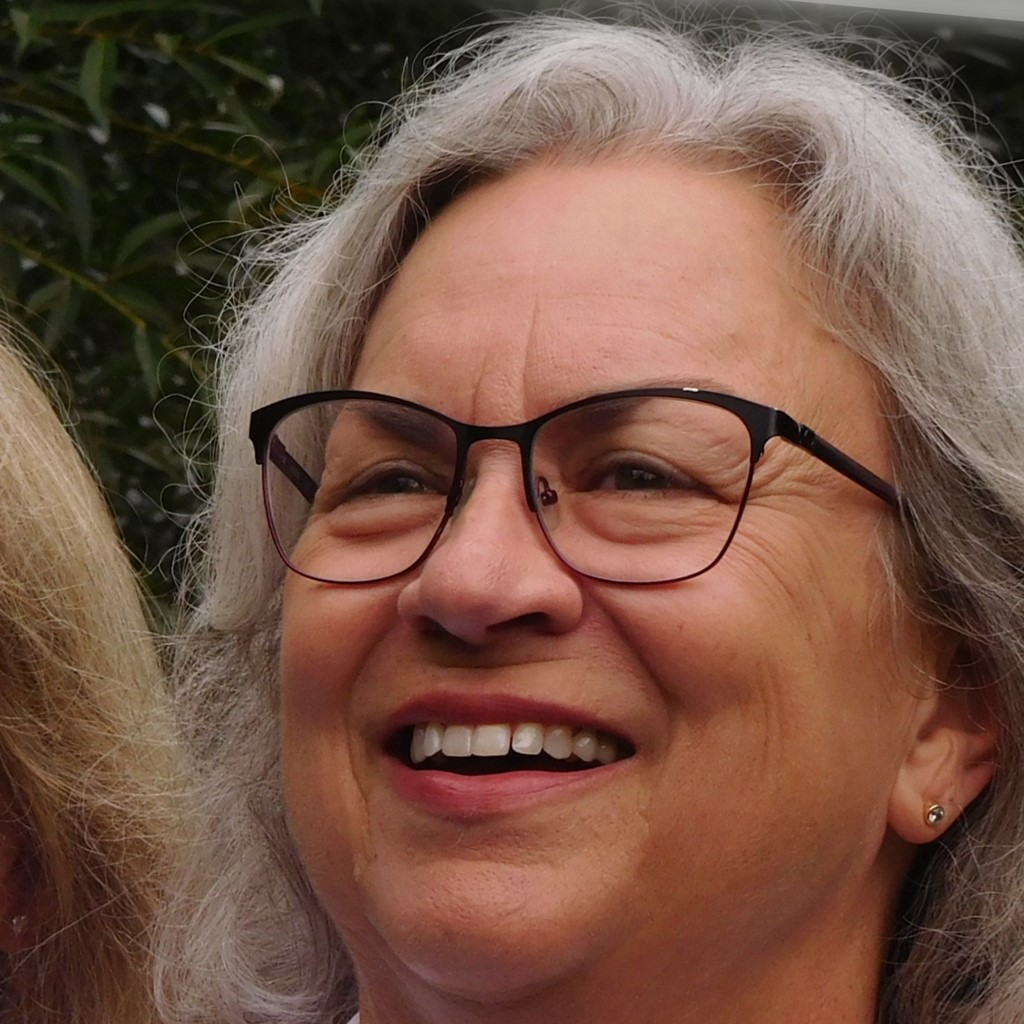sin_mascara: (283, 154, 899, 985)
